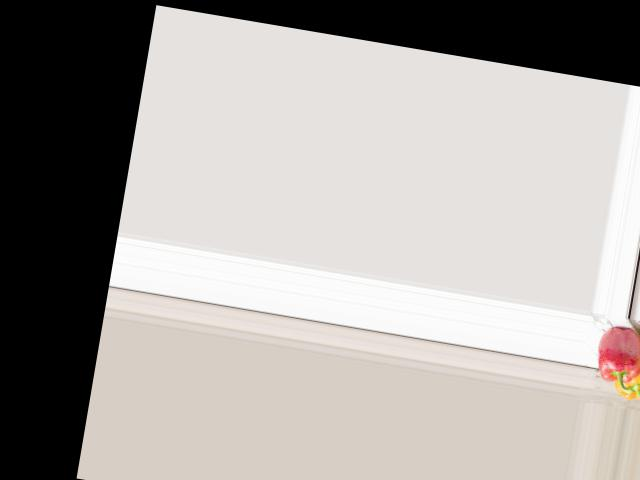bell_pepper: (611, 365, 640, 405)
